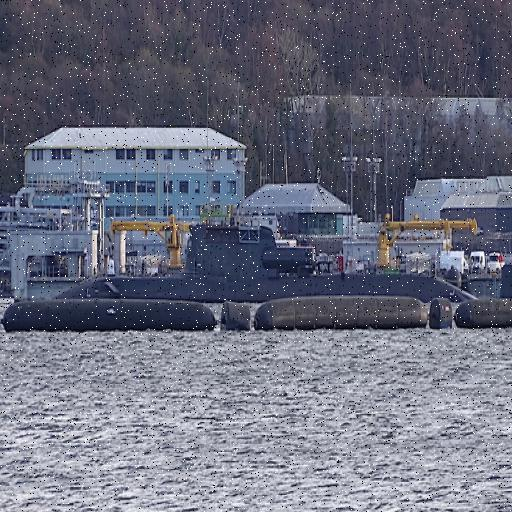submarine: (53, 224, 512, 300)
